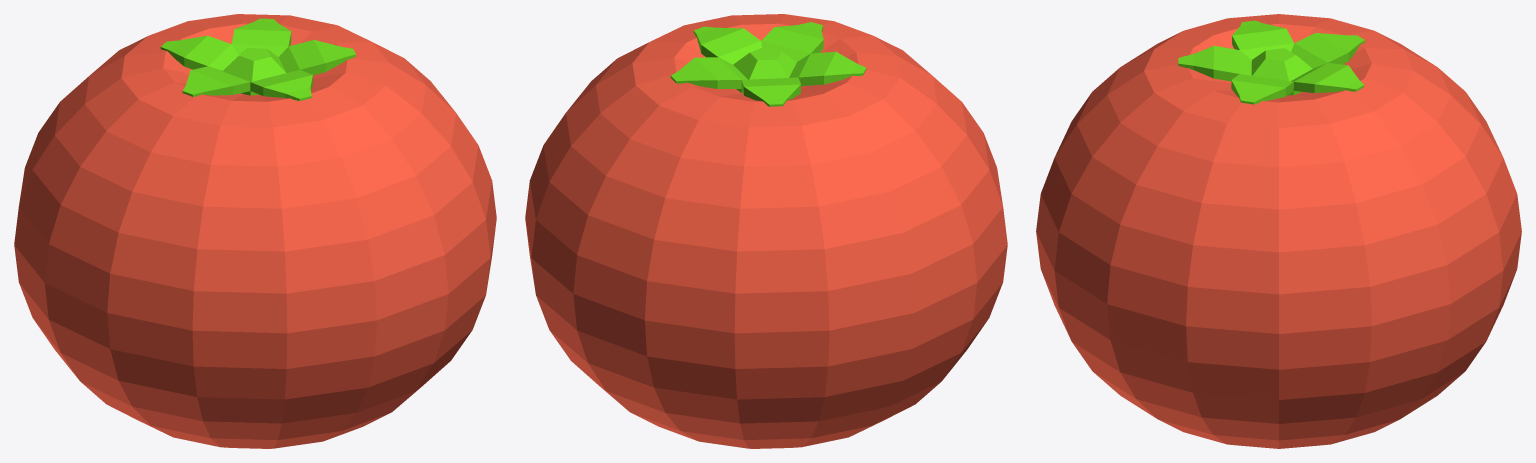
The model's file is Tomato.fbx.
3 renders of one model, left to right at view 1: azimuth 30°, elevation 25°; view 2: azimuth 150°, elevation 25°; view 3: azimuth 270°, elevation 25°, orthographic.
Visible parts, largest first — view 1: Tomato, LeafTomato; view 2: Tomato, LeafTomato; view 3: Tomato, LeafTomato.
Part boxes in pixels (bbox=[...]): Tomato: bbox=[14, 14, 496, 448]; LeafTomato: bbox=[160, 18, 355, 100]; Tomato: bbox=[525, 14, 1007, 448]; LeafTomato: bbox=[670, 22, 866, 106]; Tomato: bbox=[1036, 14, 1521, 448]; LeafTomato: bbox=[1178, 20, 1364, 104].
Size of the model in its own units: 5 by 4.2 by 5.
